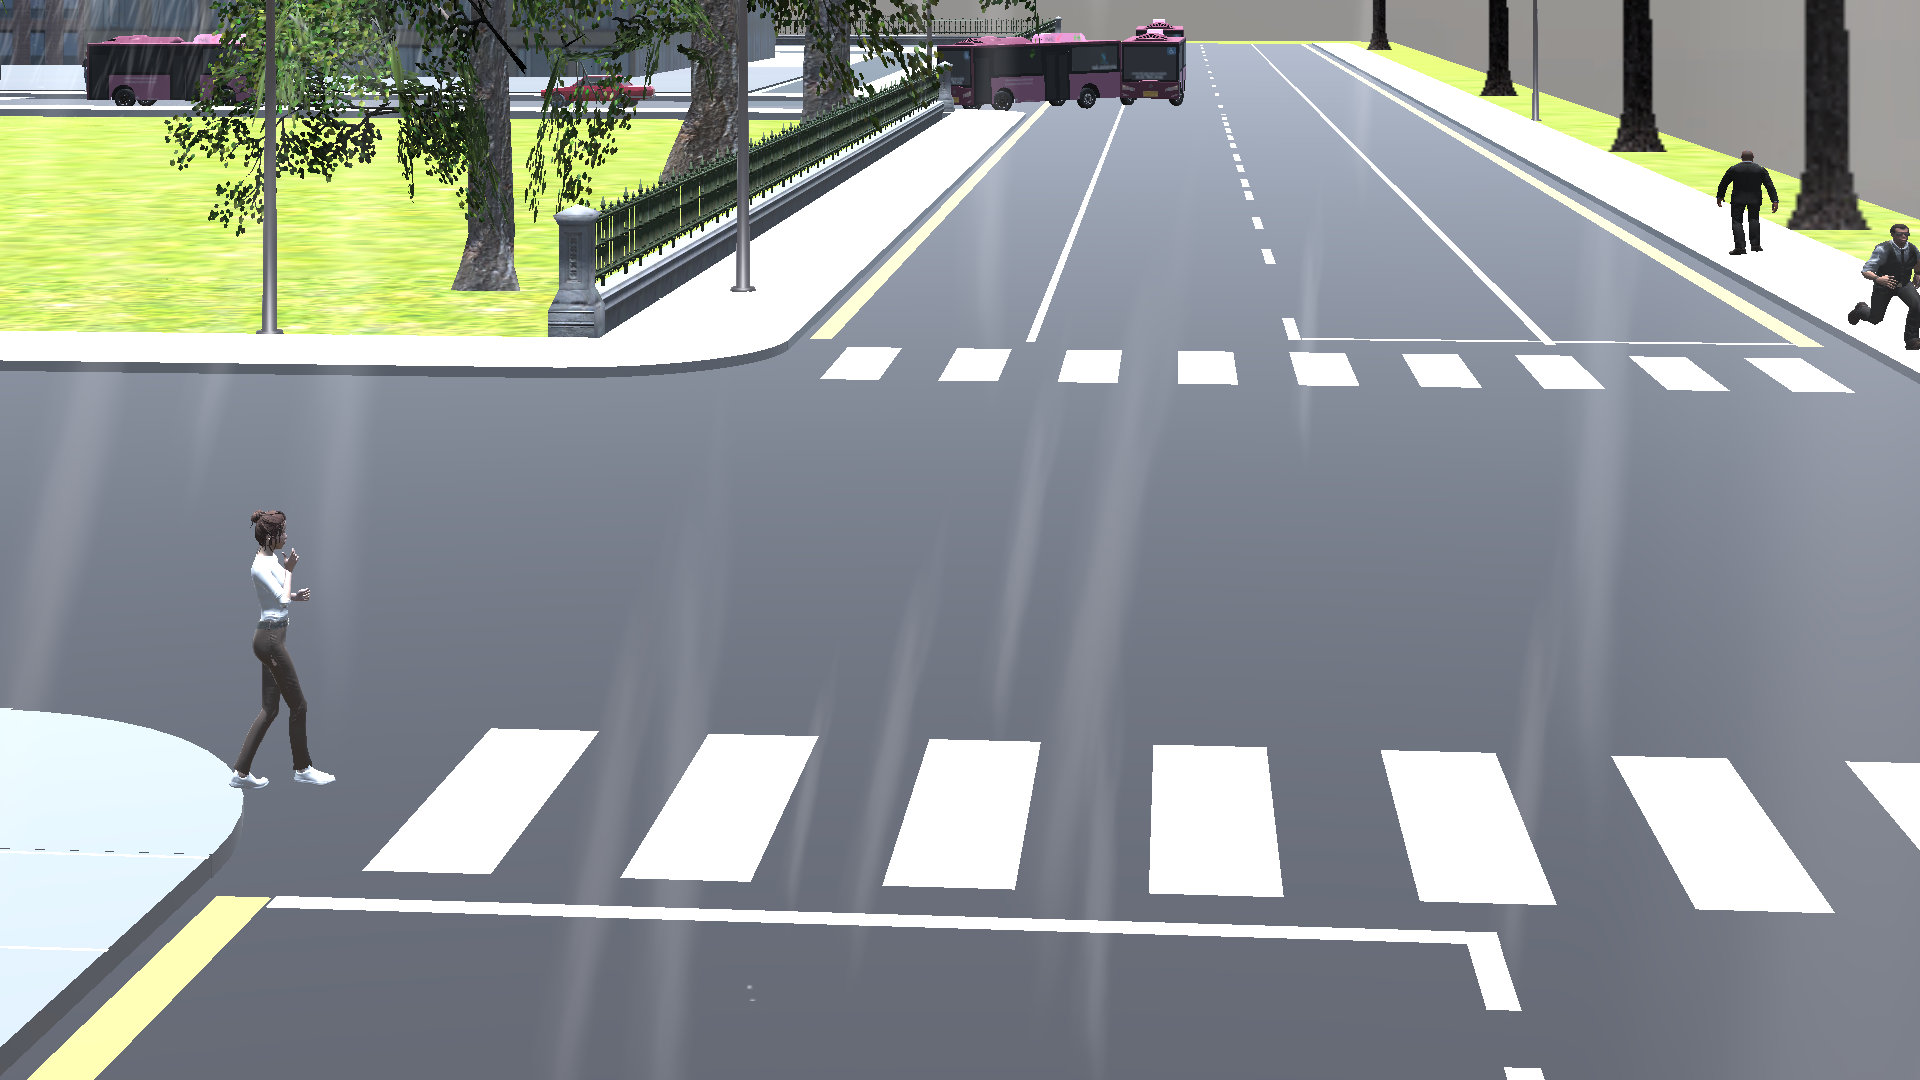pedestrian: (224, 498, 353, 810), (1839, 201, 1920, 355), (1707, 141, 1778, 255)
